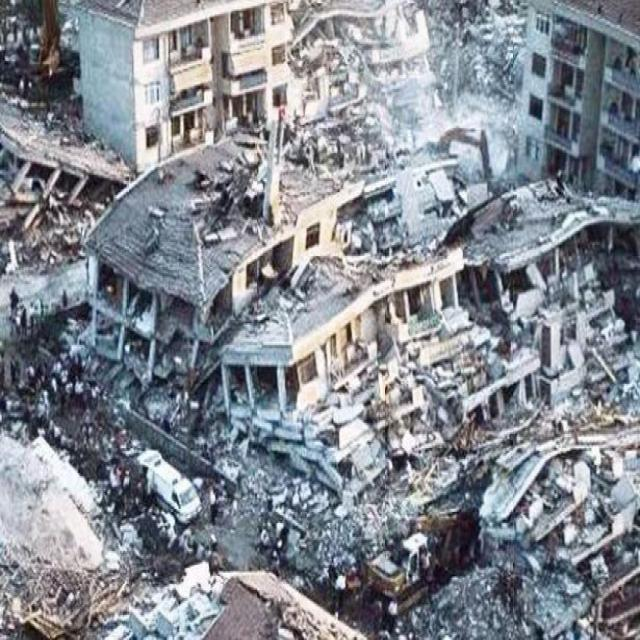collapsed_building: (86, 139, 639, 420), (79, 0, 449, 136), (488, 452, 639, 638), (0, 426, 139, 627), (0, 92, 113, 262)
